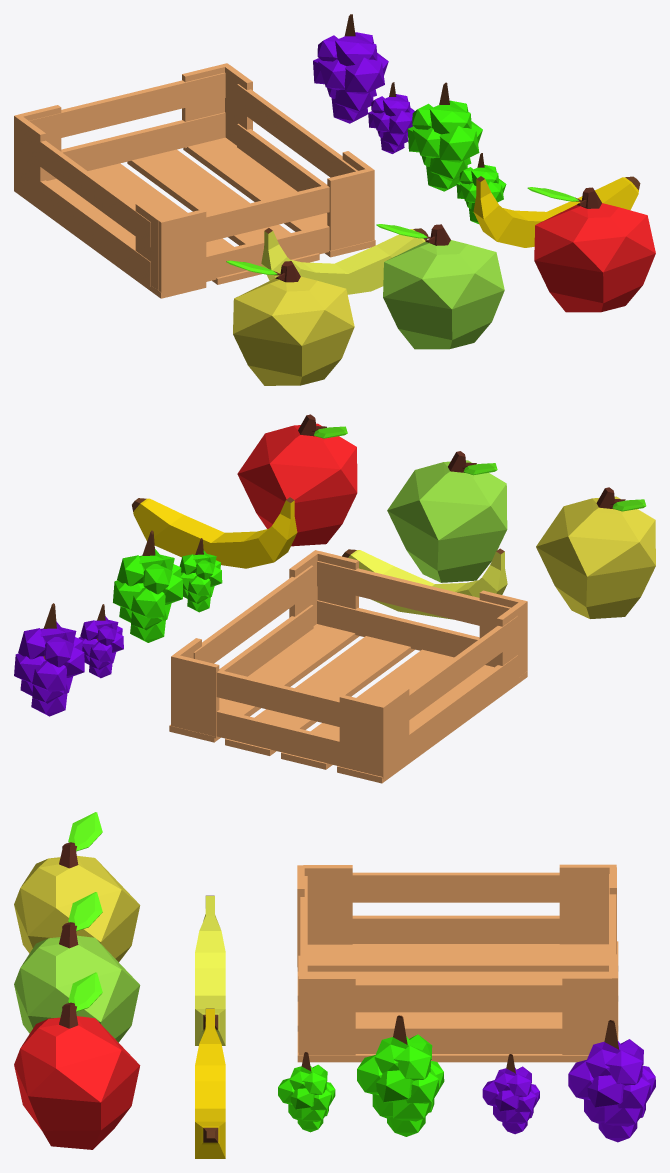
The model's file is low_poly_fruit_pack_applebananagrapes.glb.
The picture shows the model from 3 angles, top to bottom: view 1: azimuth 30°, elevation 25°; view 2: azimuth 150°, elevation 25°; view 3: azimuth 270°, elevation 25°; orthographic projection. The views are drawn at different scales.
Parts seen in each view (by area): view 1: Crate, Apple Green, Apple, Apple Yellow, BigPurpleGrape, BigGreenGrape, Banana Green, Banana, PurpleGrape, GreenGrape; view 2: Crate, Apple Yellow, Apple Green, Apple, Banana, BigPurpleGrape, BigGreenGrape, Banana Green, PurpleGrape, GreenGrape; view 3: Crate, Apple, Apple Green, Apple Yellow, BigPurpleGrape, BigGreenGrape, Banana, Banana Green, GreenGrape, PurpleGrape.
Part boxes in pixels (x1=…): Crate: x1=14, y1=63, x2=375, y2=298; Apple Green: x1=376, y1=224, x2=504, y2=349; Apple: x1=527, y1=187, x2=655, y2=312; Apple Yellow: x1=226, y1=260, x2=354, y2=385; BigPurpleGrape: x1=313, y1=14, x2=388, y2=123; BigGreenGrape: x1=407, y1=82, x2=482, y2=191; Banana Green: x1=261, y1=228, x2=428, y2=294; Banana: x1=473, y1=176, x2=640, y2=247; PurpleGrape: x1=368, y1=82, x2=414, y2=153; GreenGrape: x1=456, y1=153, x2=506, y2=224; Crate: x1=169, y1=550, x2=527, y2=783; Apple Yellow: x1=536, y1=487, x2=655, y2=618; Apple Green: x1=387, y1=451, x2=507, y2=582; Apple: x1=237, y1=414, x2=357, y2=546; Banana: x1=132, y1=497, x2=297, y2=568; BigPurpleGrape: x1=14, y1=603, x2=84, y2=716; BigGreenGrape: x1=113, y1=530, x2=182, y2=642; Banana Green: x1=342, y1=548, x2=507, y2=619; PurpleGrape: x1=78, y1=604, x2=123, y2=678; GreenGrape: x1=179, y1=538, x2=222, y2=612; Crate: x1=297, y1=864, x2=618, y2=1062; Apple: x1=14, y1=972, x2=140, y2=1149; Apple Green: x1=14, y1=892, x2=140, y2=1042; Apple Yellow: x1=14, y1=812, x2=140, y2=962; BigPurpleGrape: x1=568, y1=1020, x2=655, y2=1142; BigGreenGrape: x1=357, y1=1015, x2=444, y2=1136; Banana: x1=195, y1=1008, x2=225, y2=1158; Banana Green: x1=195, y1=895, x2=225, y2=1045; GreenGrape: x1=278, y1=1052, x2=335, y2=1132; PurpleGrape: x1=482, y1=1054, x2=539, y2=1134.
Bounding box in the file's own units: 10.65 × 2.76 × 11.64.
